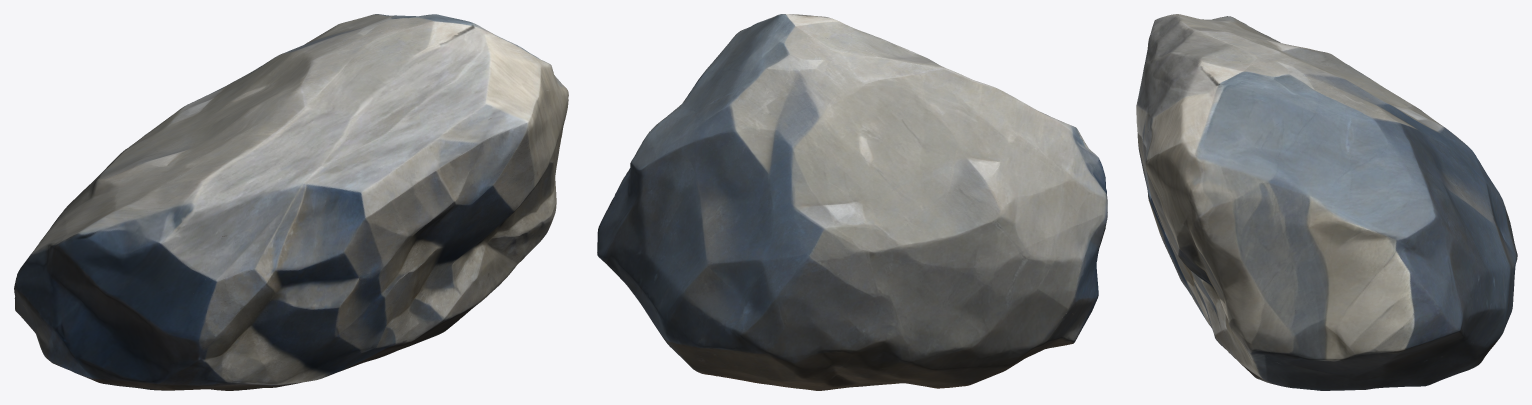
The model's file is AI_AngularBoulder.fbx.
3 renders of one model, left to right at view 1: azimuth 30°, elevation 25°; view 2: azimuth 150°, elevation 25°; view 3: azimuth 270°, elevation 25°, orthographic. The views are drawn at different scales.
Parts seen in each view (by area): view 1: Mesh1.0; view 2: Mesh1.0; view 3: Mesh1.0.
Boxes of the visible parts, box(x1,y1,x2,y2) form: Mesh1.0: box(14, 14, 568, 390); Mesh1.0: box(597, 14, 1107, 390); Mesh1.0: box(1136, 14, 1517, 390).
Bounding box in the file's own units: 200 × 128 × 137.
Materials: 1 (1 with a texture image).
